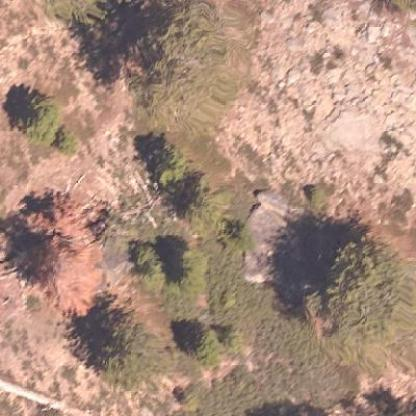tree-top: (302, 228, 410, 361), (73, 294, 161, 389), (118, 228, 212, 300), (7, 86, 64, 148), (168, 312, 230, 369), (172, 169, 228, 226)
